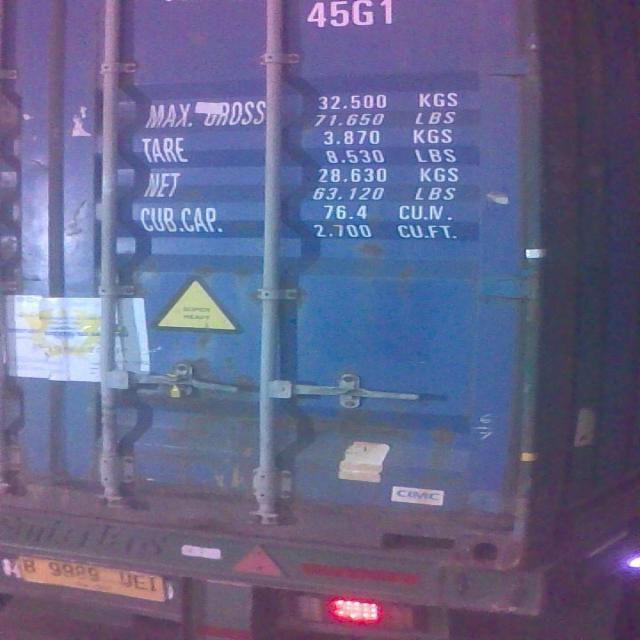seal: (160, 370, 198, 403)
